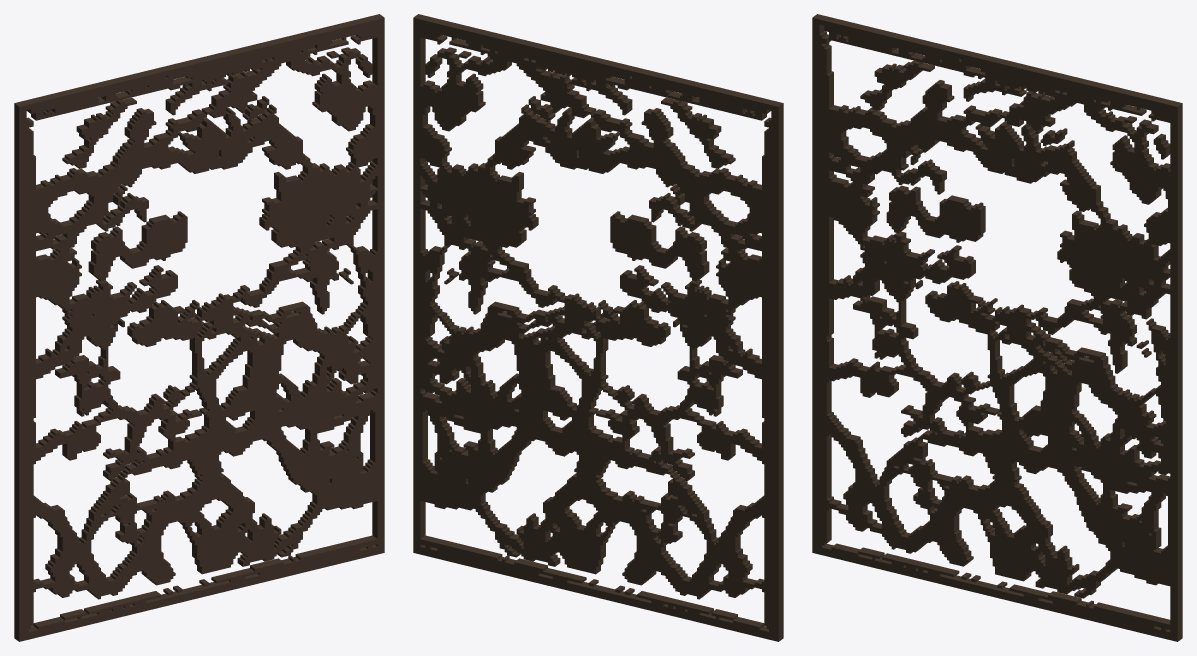
File: lattice_window.glb
3 renders of one model, left to right at view 1: azimuth 30°, elevation 25°; view 2: azimuth 150°, elevation 25°; view 3: azimuth 330°, elevation 25°, orthographic.
Parts seen in each view (by area): view 1: Lattice_Silhouette; view 2: Lattice_Silhouette; view 3: Lattice_Silhouette.
Part boxes in pixels (x1,y1,x2,y2): Lattice_Silhouette: (14, 14, 384, 641); Lattice_Silhouette: (413, 14, 783, 641); Lattice_Silhouette: (812, 14, 1182, 641).
Size of the model in its own units: 1.5 by 2.1 by 0.0365.
